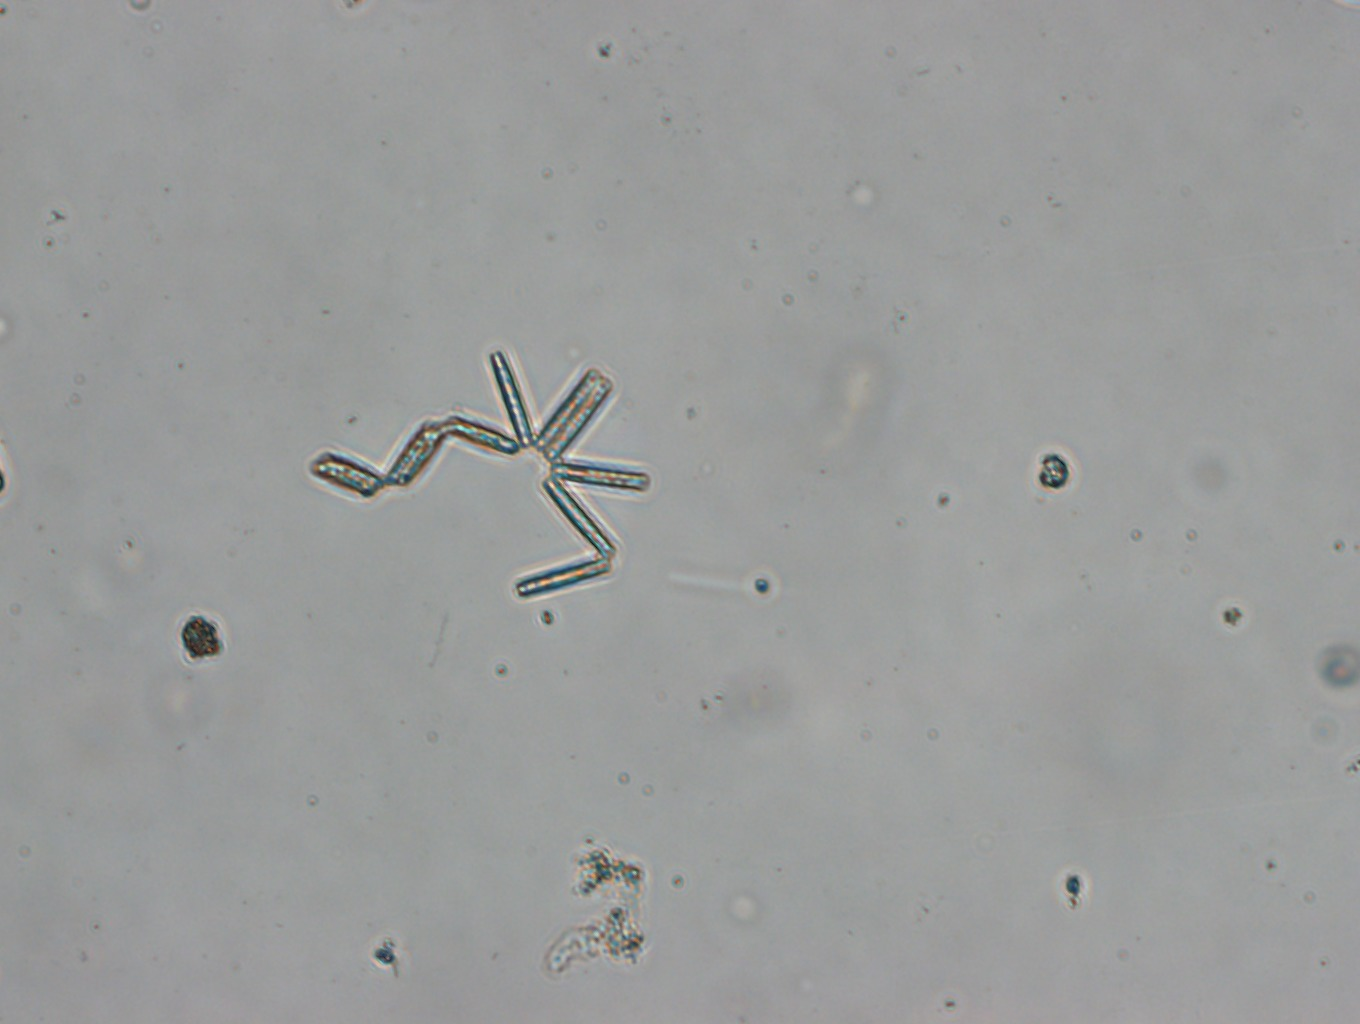thalassionema nitzschioides: (305, 349, 652, 599)
